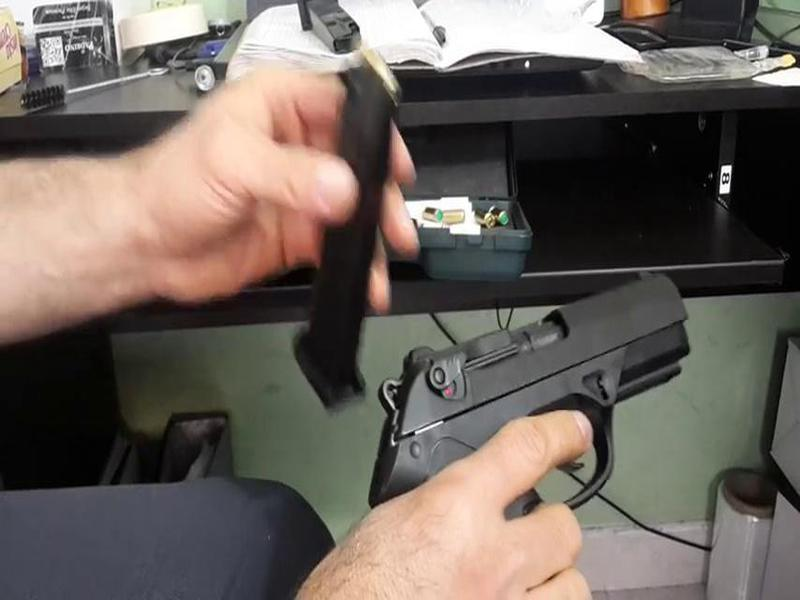Pistola: (347, 283, 699, 524)
